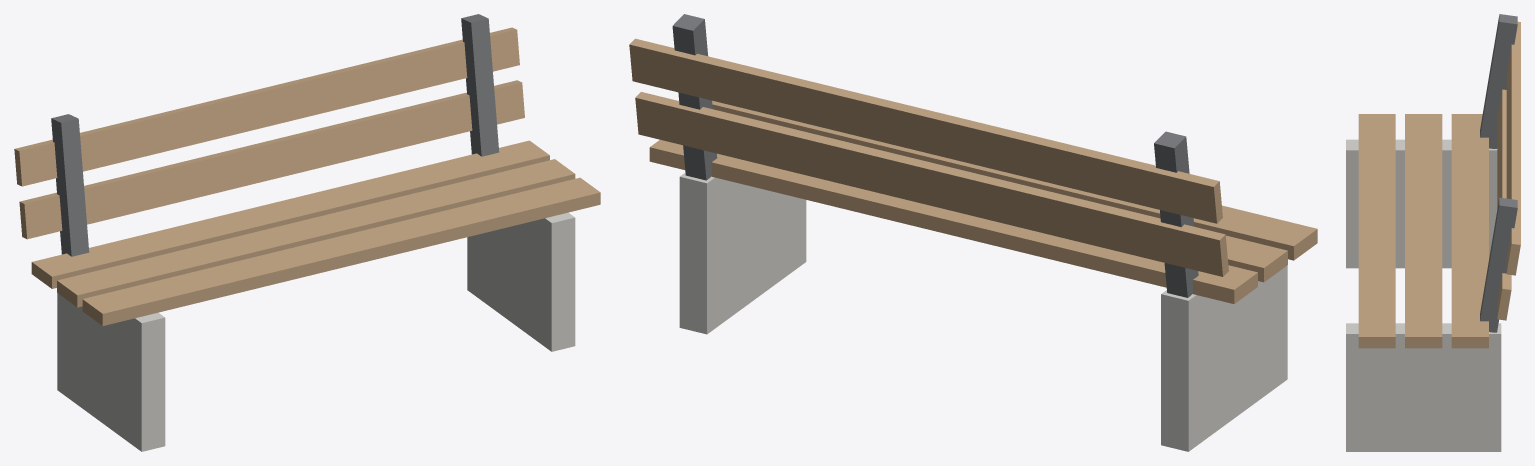
The model's file is bench-park.glb.
3 renders of one model, left to right at view 1: azimuth 30°, elevation 25°; view 2: azimuth 150°, elevation 25°; view 3: azimuth 270°, elevation 25°, orthographic. The views are drawn at different scales.
Parts seen in each view (by area): view 1: bench-park; view 2: bench-park; view 3: bench-park.
Part boxes in pixels (x1,y1,x2,y2): bench-park: (14,14,600,451); bench-park: (629,14,1317,451); bench-park: (1346,14,1520,451).
Size of the model in its own units: 1.7 by 0.872 by 0.5631.
